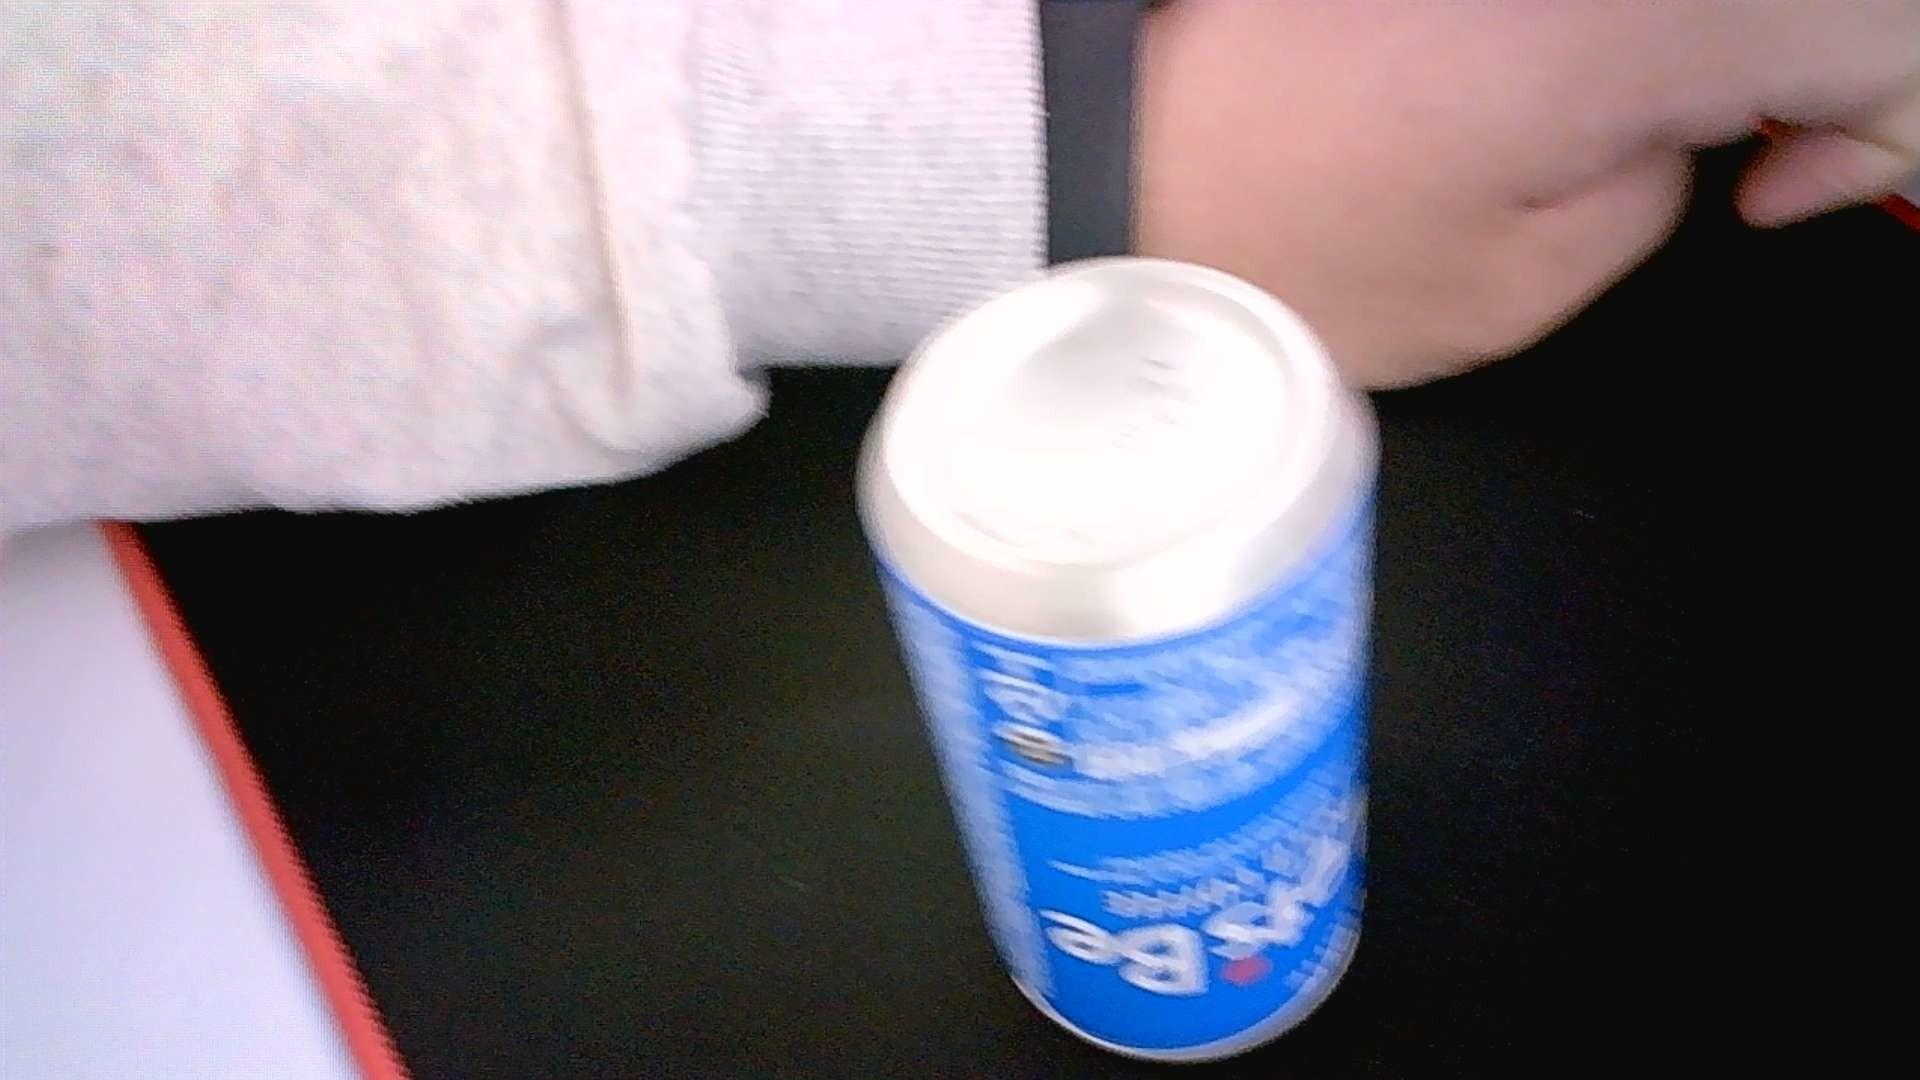letsbe: (857, 253, 1379, 1063)
